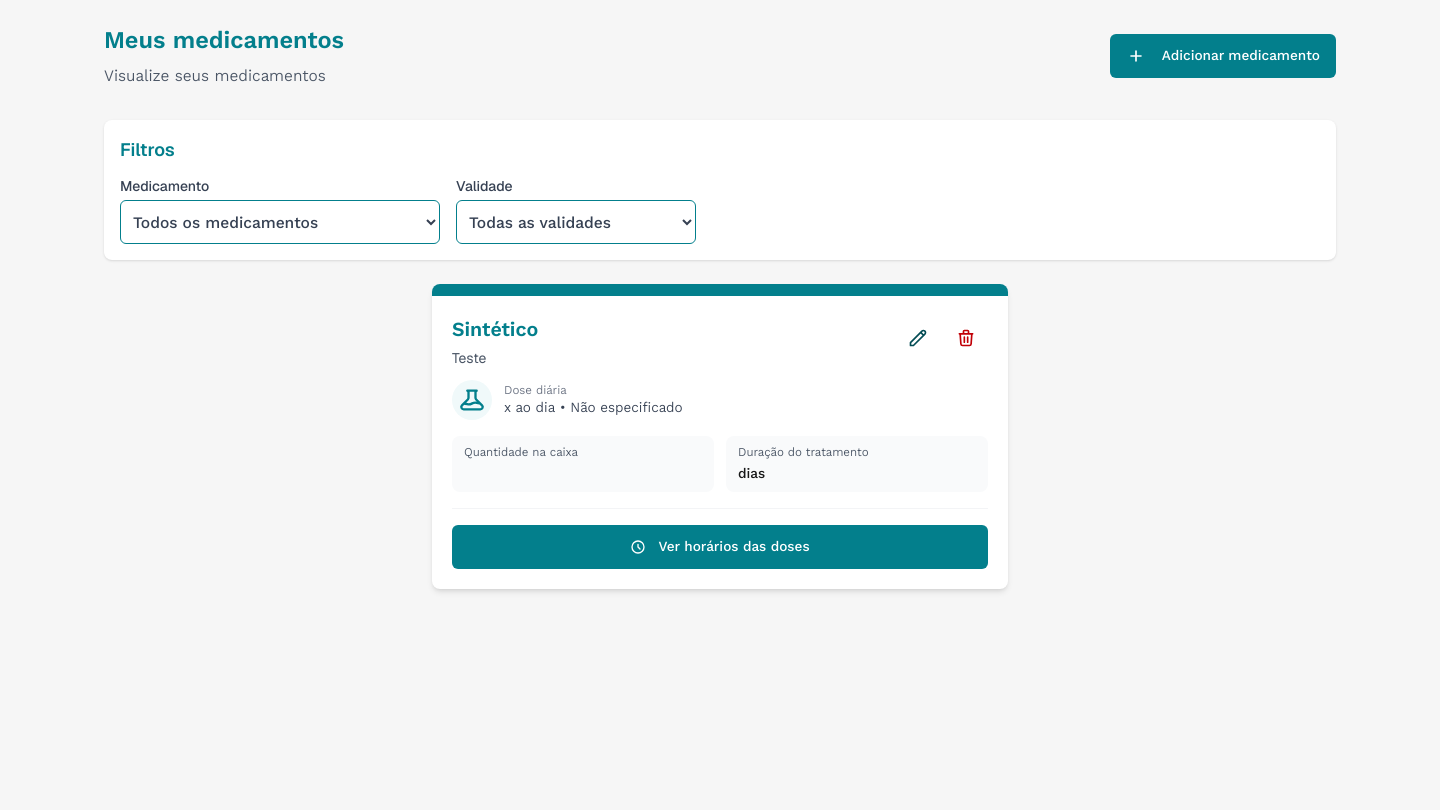
Test case: NET-13 NET-14 medicamentos › descarta a confirmação de exclusão se a sessão mudar com o diálogo aberto
The width and height of the screenshot is (1440, 810).
Expected: the heading "Sintético" is shown, left=452, top=318, right=538, bottom=341
Click the button named "Excluir medicamento": point(966, 338) left=944, top=316, right=988, bottom=360
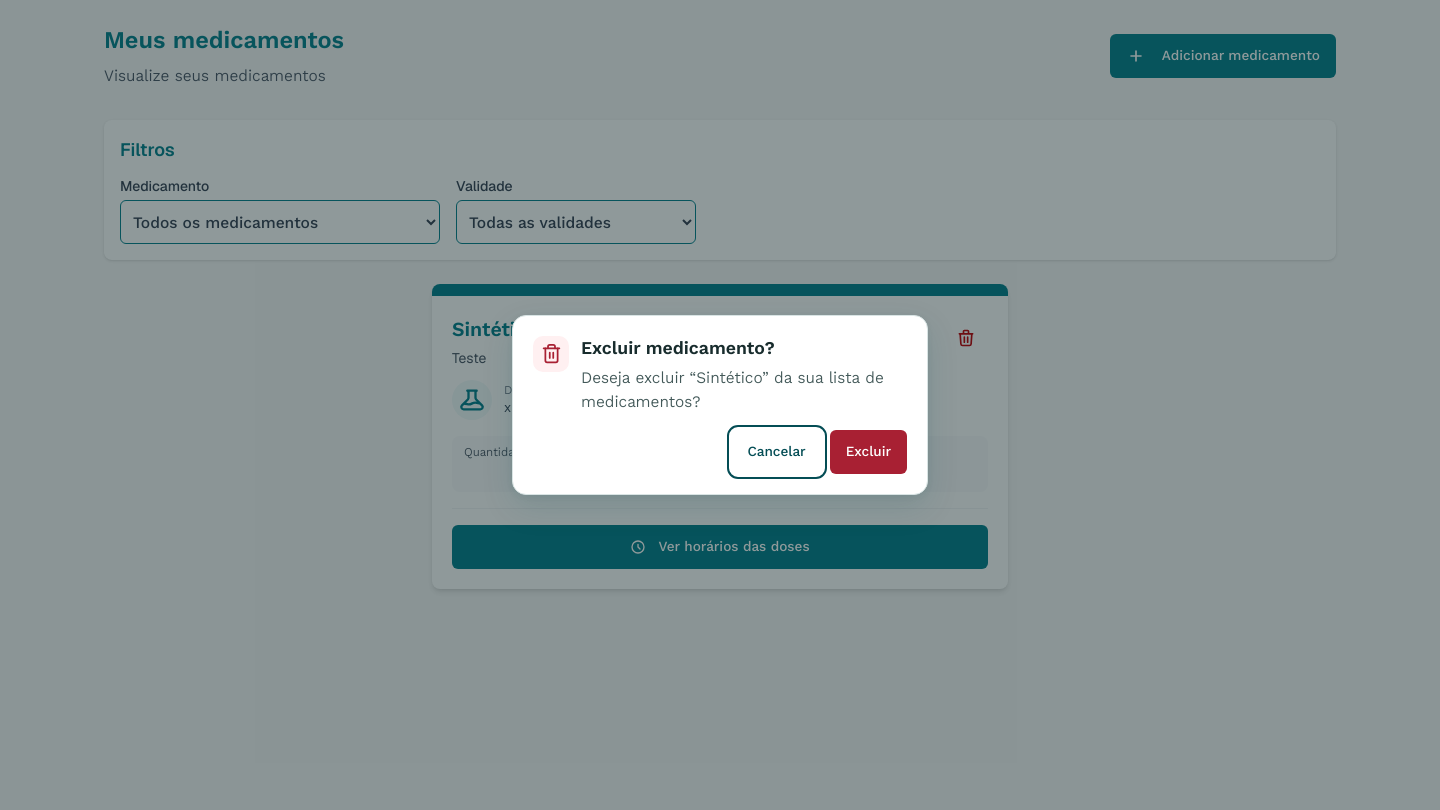
Click the button "Excluir": point(868, 452) left=830, top=430, right=907, bottom=474
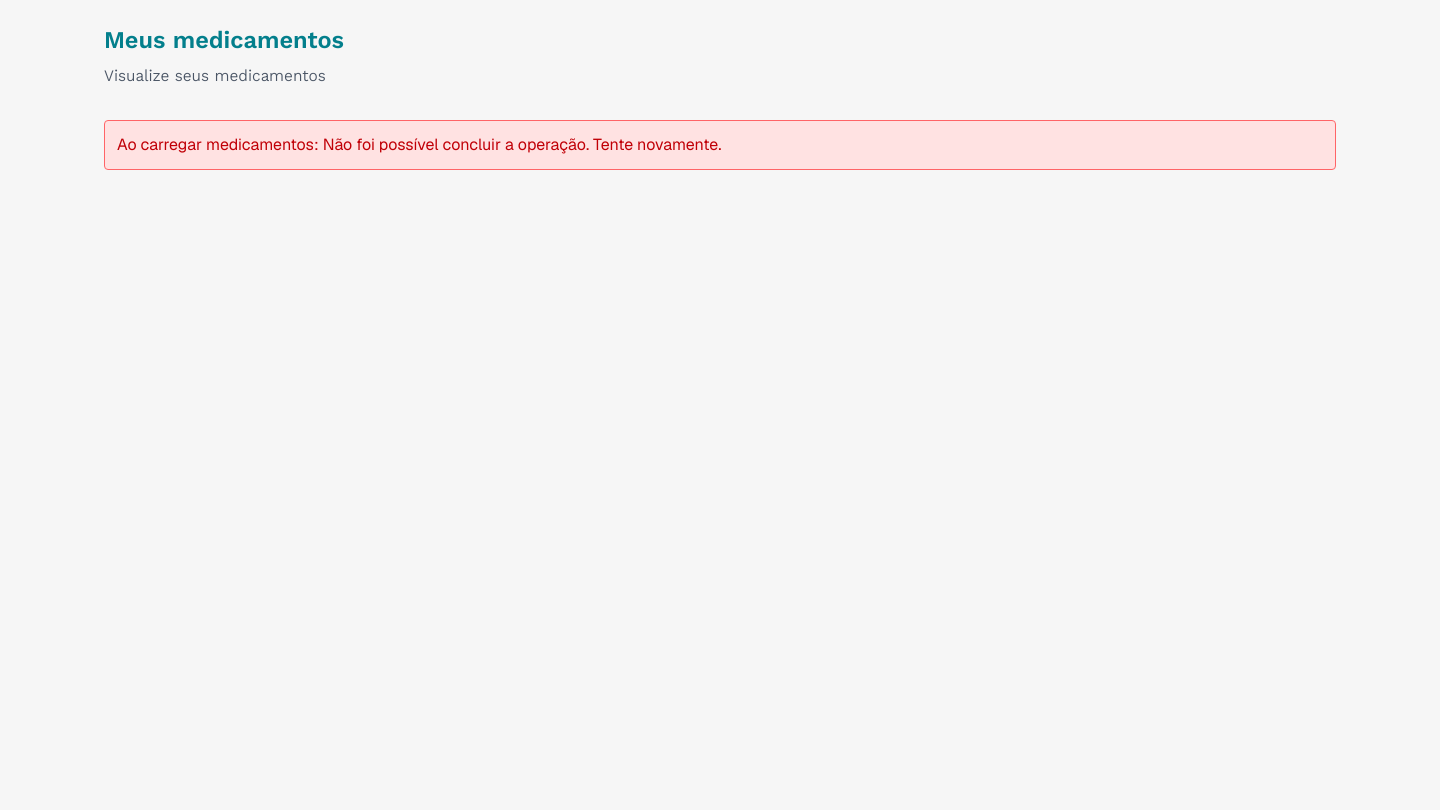
Result: the dialog is gone
